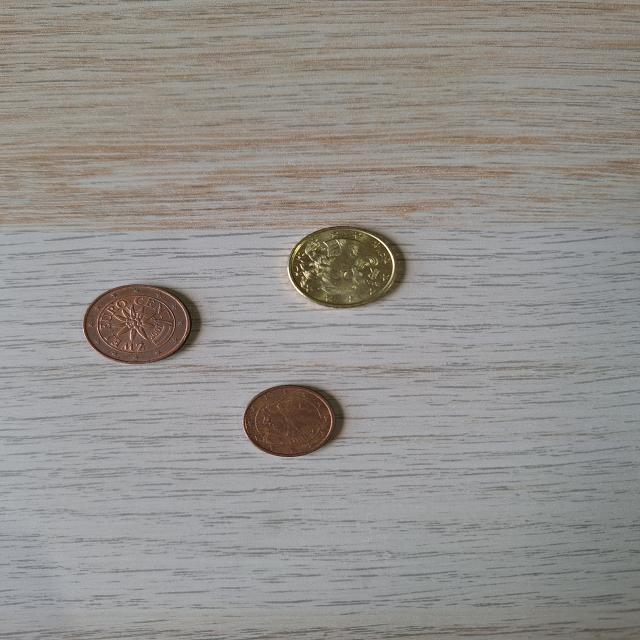10c: (278, 218, 411, 320)
1c: (236, 378, 346, 466)
2c: (70, 278, 207, 370)
